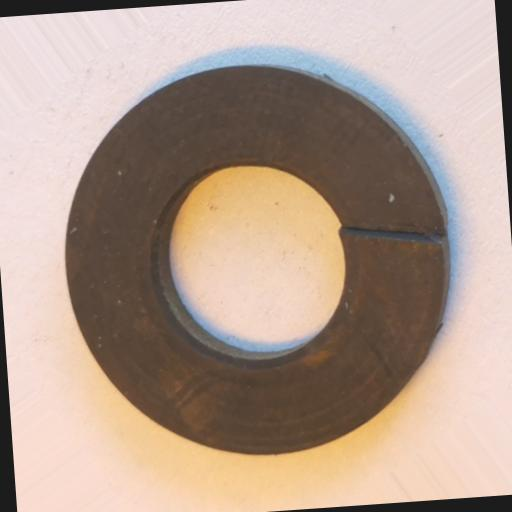defect: (339, 218, 441, 252)
